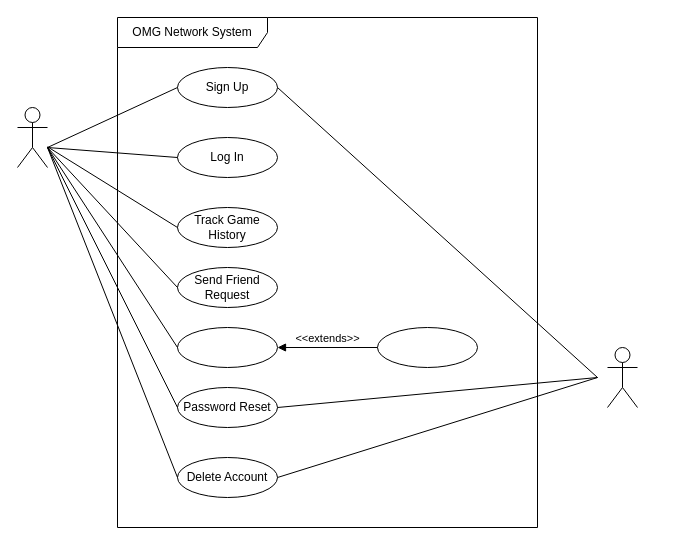
The diagram is 678 pixels wide and 545 high, and some of its shapes have lost their labels. Each missing label, with the centre of its shape:
Join A Match: point 227,347
Quit Match: point 427,347
System Admin: point 622,377
User: point 32,137
